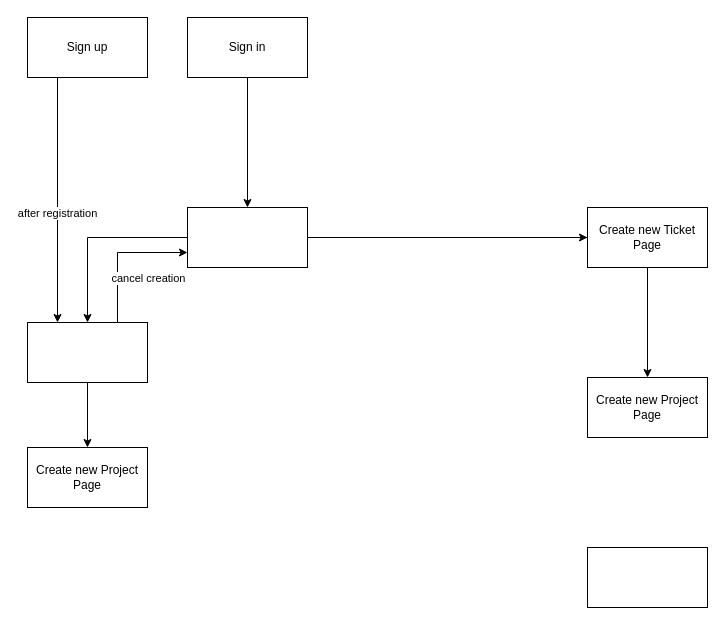
The diagram is 725 pixels wide and 625 high, and some of its shapes have lost their labels. The centre of each missing label's shape, as x and y in pixels:
"Company Page" belongs at (647,577).
"Create new Company Page" belongs at (87,352).
"Home Page" belongs at (247,237).
